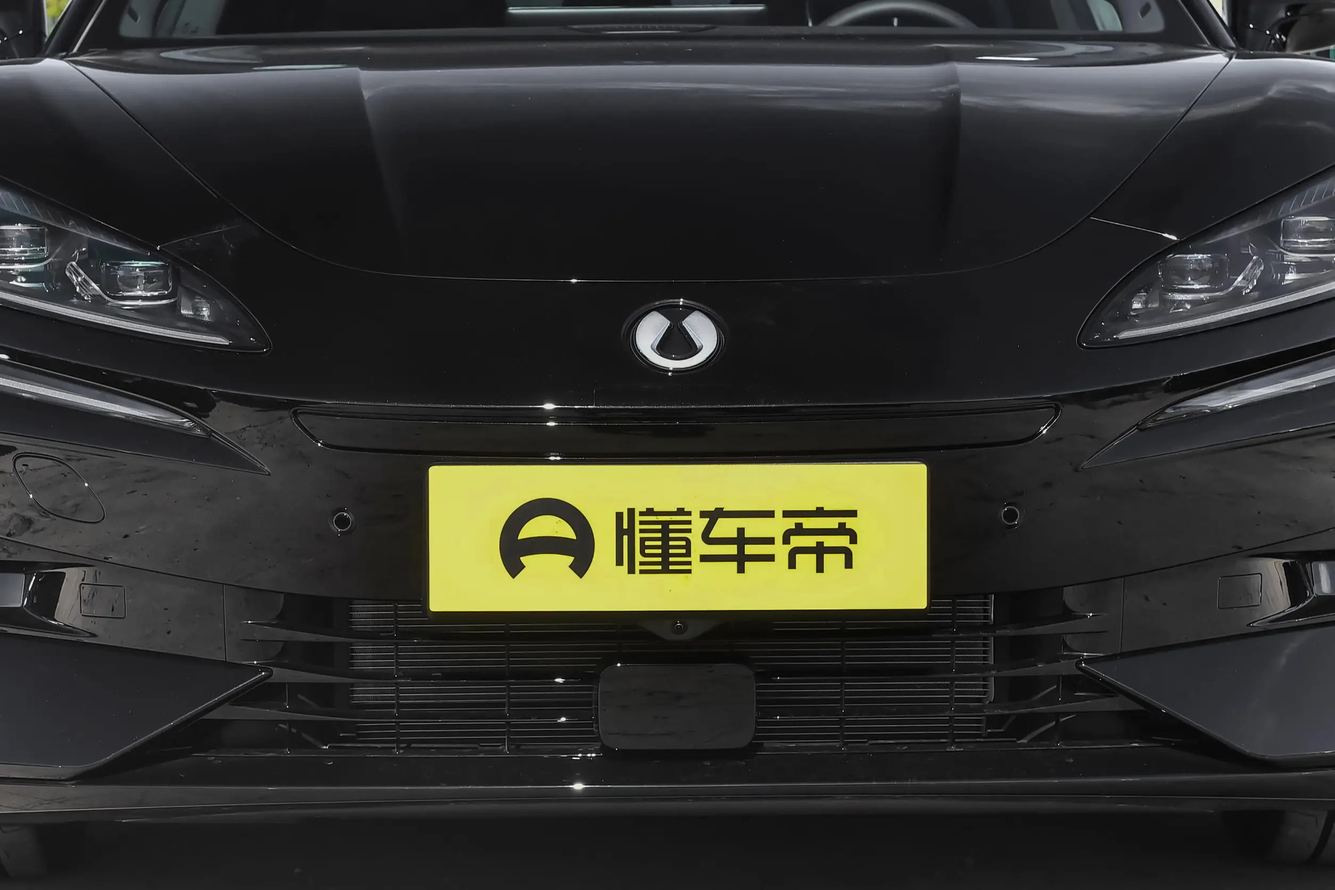DENZA: (636, 311, 716, 367)
